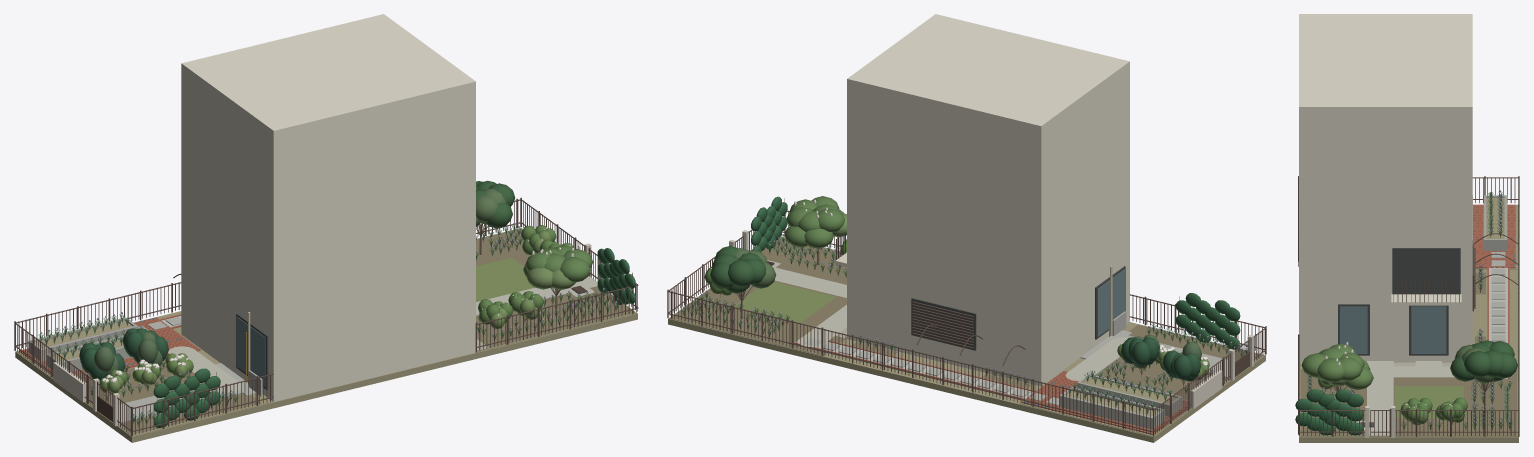
Rendered from design-A-year5.glb.
The picture shows the model from 3 angles, left to right: view 1: azimuth 30°, elevation 25°; view 2: azimuth 150°, elevation 25°; view 3: azimuth 270°, elevation 25°; orthographic projection. The views are drawn at different scales.
Visible parts, largest first — view 1: Unsurveyed_Building_Mass, Boundary_Fences_Approximate_metal, R0_Flat_Datum, S-west-border, Footprint_Proxy_Unsurveyed, Leaves_N14_Foliage_TJ, S-lawn, Proposed_Planting_Beds_And_Mulch, Leaves_S02_Foliage_LI, Leaves_N10_Foliage_CA, Leaves_S07_Foliage_TJ, Visible_planter_Openings_glass (+18 smaller); view 2: Unsurveyed_Building_Mass, Boundary_Fences_Approximate_metal, R0_Flat_Datum, Proposed_Planting_Beds_And_Mulch, Leaves_N14_Foliage_TJ, Leaves_S02_Foliage_LI, S-lawn, S-east-border, Footprint_Proxy_Unsurveyed, Leaves_S01_Foliage_OS, Leaves_N10_Foliage_CA, Wall_Services_Visible_Proxies_dark (+20 smaller); view 3: Unsurveyed_Building_Mass, Visible_bare_Openings_dark, Boundary_Fences_Approximate_metal, Visible_bare_Openings_glass, R0_Flat_Datum, S-east-border, Proposed_Planting_Beds_And_Mulch, Leaves_S07_Foliage_TJ, Leaves_S02_Foliage_LI, Leaves_S01_Foliage_OS, S-main_New_Warm_Grey_Paving, Red_Brick_Joints_Indicative_brick (+20 smaller).
Boxes of the visible parts, box(x1,y1,x2,y2) form: Unsurveyed_Building_Mass: box(181, 14, 475, 393); Boundary_Fences_Approximate_metal: box(14, 197, 638, 436); R0_Flat_Datum: box(15, 294, 637, 442); S-west-border: box(477, 292, 631, 345); Footprint_Proxy_Unsurveyed: box(181, 326, 475, 401); Leaves_N14_Foliage_TJ: box(153, 368, 220, 427); S-lawn: box(476, 258, 534, 301); Proposed_Planting_Beds_And_Mulch: box(83, 228, 635, 434); Leaves_S02_Foliage_LI: box(523, 245, 593, 282); Leaves_N10_Foliage_CA: box(79, 328, 168, 381); Leaves_S07_Foliage_TJ: box(597, 248, 635, 305); Visible_planter_Openings_glass: box(237, 317, 265, 387); Unsurveyed_Building_Mass: box(847, 14, 1129, 378); Boundary_Fences_Approximate_metal: box(667, 210, 1266, 436); R0_Flat_Datum: box(668, 288, 1265, 442); Proposed_Planting_Beds_And_Mulch: box(672, 237, 1261, 400); Leaves_N14_Foliage_TJ: box(1175, 293, 1240, 349); Leaves_S02_Foliage_LI: box(784, 196, 844, 248); S-lawn: box(734, 282, 835, 322); S-east-border: box(675, 290, 789, 340); Footprint_Proxy_Unsurveyed: box(847, 313, 1129, 386); Leaves_S01_Foliage_OS: box(710, 246, 766, 293); Leaves_N10_Foliage_CA: box(1121, 337, 1201, 381); Wall_Services_Visible_Proxies_dark: box(911, 298, 976, 350); Unsurveyed_Building_Mass: box(1299, 14, 1472, 354); Visible_bare_Openings_dark: box(1338, 248, 1460, 355); Boundary_Fences_Approximate_metal: box(1298, 176, 1519, 436); Visible_bare_Openings_glass: box(1340, 306, 1446, 353); R0_Flat_Datum: box(1299, 269, 1518, 442); S-east-border: box(1398, 388, 1514, 434); Proposed_Planting_Beds_And_Mulch: box(1300, 363, 1517, 435); Leaves_S07_Foliage_TJ: box(1295, 389, 1363, 435); Leaves_S02_Foliage_LI: box(1301, 343, 1373, 390); Leaves_S01_Foliage_OS: box(1450, 340, 1517, 381); S-main_New_Warm_Grey_Paving: box(1367, 361, 1393, 435); Red_Brick_Joints_Indicative_brick: box(1473, 204, 1515, 267).
Size of what is drawn, in the model's own units: 25.22 by 13.1 by 10.2.
